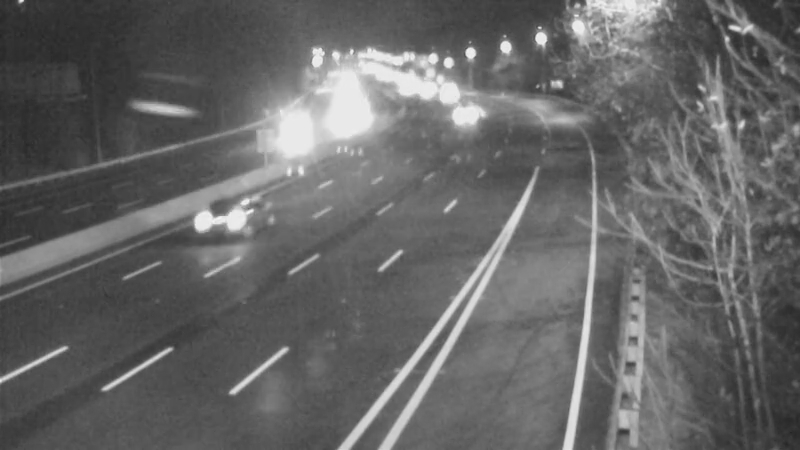vehicle: (182, 168, 262, 248), (439, 86, 489, 136), (259, 113, 309, 163)
